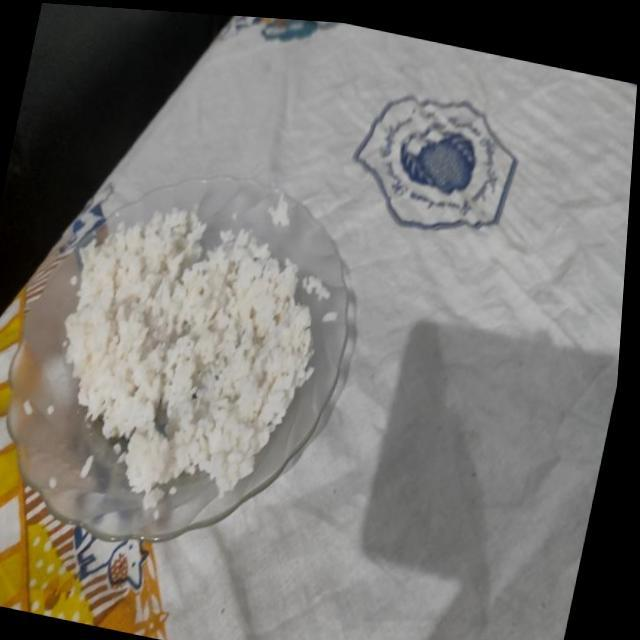nasi_putih: (65, 208, 314, 498)
